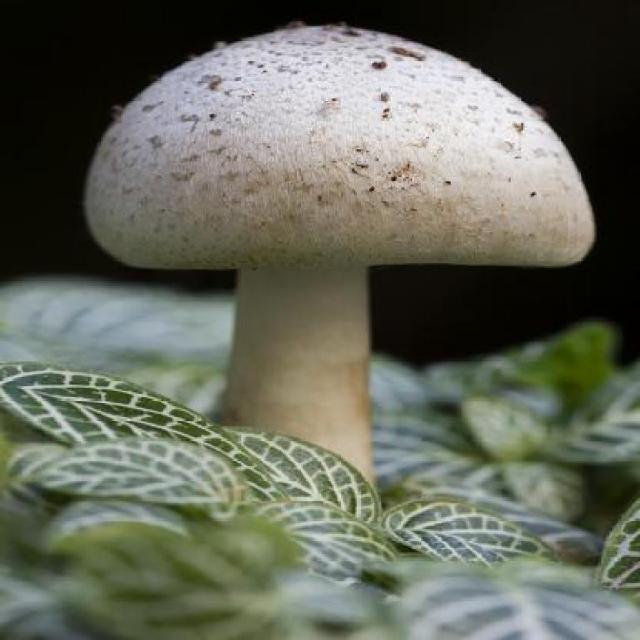Mushroom: (71, 21, 583, 504)
